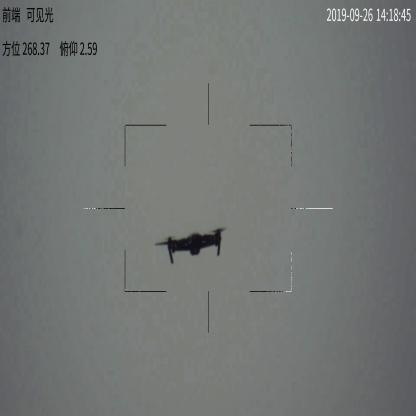uav: (152, 227, 228, 266)
